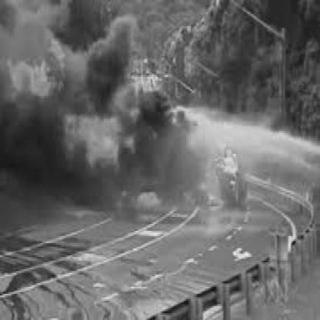Fire: (65, 112, 137, 170), (4, 61, 62, 95), (206, 158, 232, 206), (134, 189, 164, 213)
Smoke: (0, 0, 207, 208)
